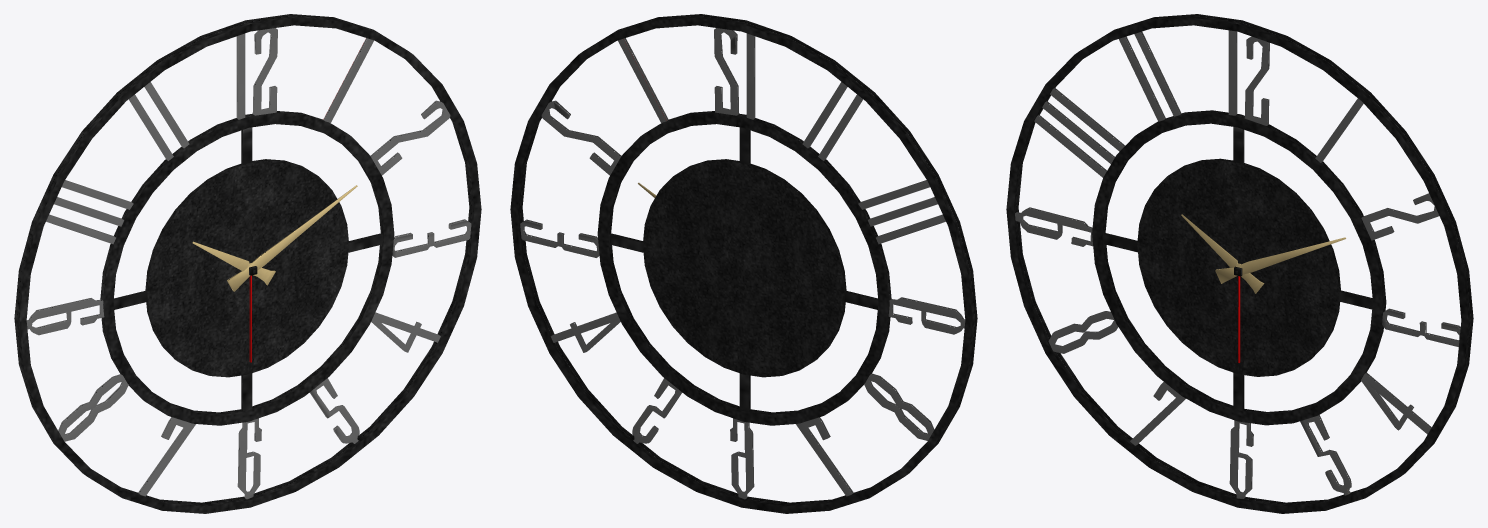
The model's file is clock11.glb.
The picture shows the model from 3 angles, left to right: view 1: azimuth 30°, elevation 25°; view 2: azimuth 150°, elevation 25°; view 3: azimuth 330°, elevation 25°; orthographic projection.
Parts seen in each view (by area): view 1: SM_Saat_3, SM_Saat_Yelkovan_0, SM_saat_akrep_2; view 2: SM_Saat_3; view 3: SM_Saat_3, SM_Saat_Yelkovan_0, SM_saat_akrep_2.
Boxes of the visible parts, box(x1,y1,x2,y2) form: SM_Saat_3: box(14, 14, 481, 513); SM_Saat_Yelkovan_0: box(227, 185, 357, 291); SM_saat_akrep_2: box(192, 241, 275, 285); SM_Saat_3: box(510, 14, 977, 513); SM_Saat_3: box(1006, 14, 1473, 513); SM_Saat_Yelkovan_0: box(1215, 237, 1345, 283); SM_saat_akrep_2: box(1181, 214, 1264, 293).
Bounding box in the file's own units: 0.8024 × 0.8024 × 0.0222.
Materials: 1 (1 with a texture image).
